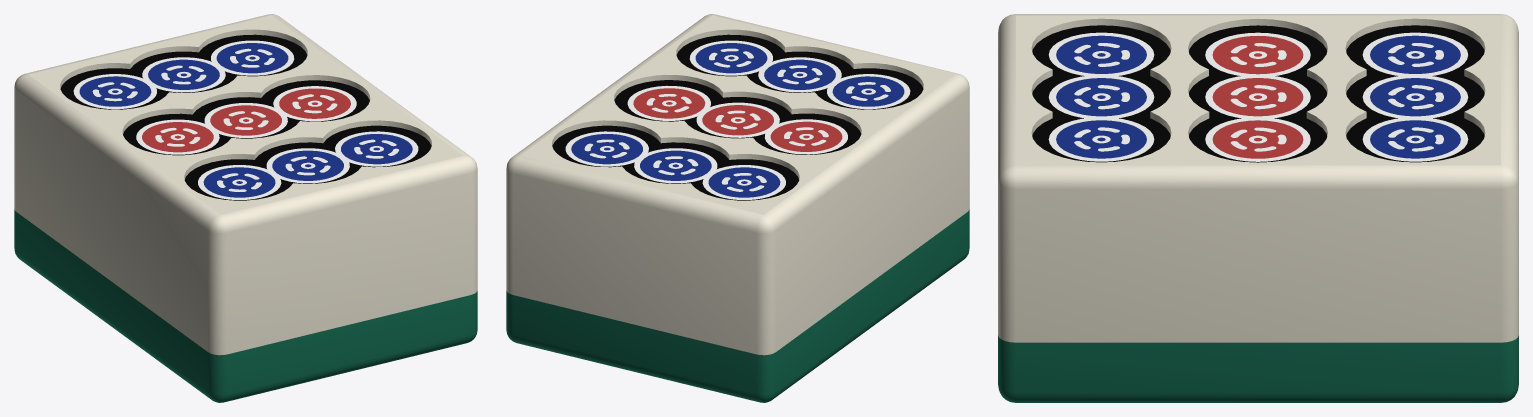
File: Pin9.glb
The picture shows the model from 3 angles, left to right: view 1: azimuth 30°, elevation 25°; view 2: azimuth 150°, elevation 25°; view 3: azimuth 270°, elevation 25°; orthographic projection. The views are drawn at different scales.
Parts seen in each view (by area): view 1: Pin9_body, Pin9_inset; view 2: Pin9_body, Pin9_inset; view 3: Pin9_body, Pin9_inset.
Part boxes in pixels (x1=…): Pin9_body: x1=14, y1=14, x2=477, y2=402; Pin9_inset: x1=60, y1=34, x2=431, y2=200; Pin9_body: x1=506, y1=14, x2=969, y2=402; Pin9_inset: x1=552, y1=34, x2=923, y2=200; Pin9_body: x1=998, y1=14, x2=1518, y2=402; Pin9_inset: x1=1032, y1=25, x2=1484, y2=162.
Bounding box in the file's own units: 0.024 × 0.016 × 0.032.
